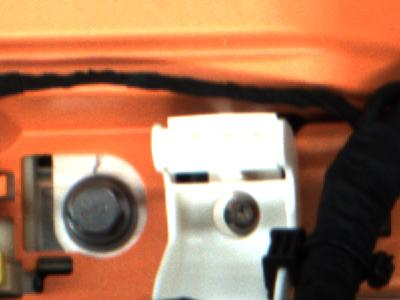nut_b: (58, 174, 139, 257)
